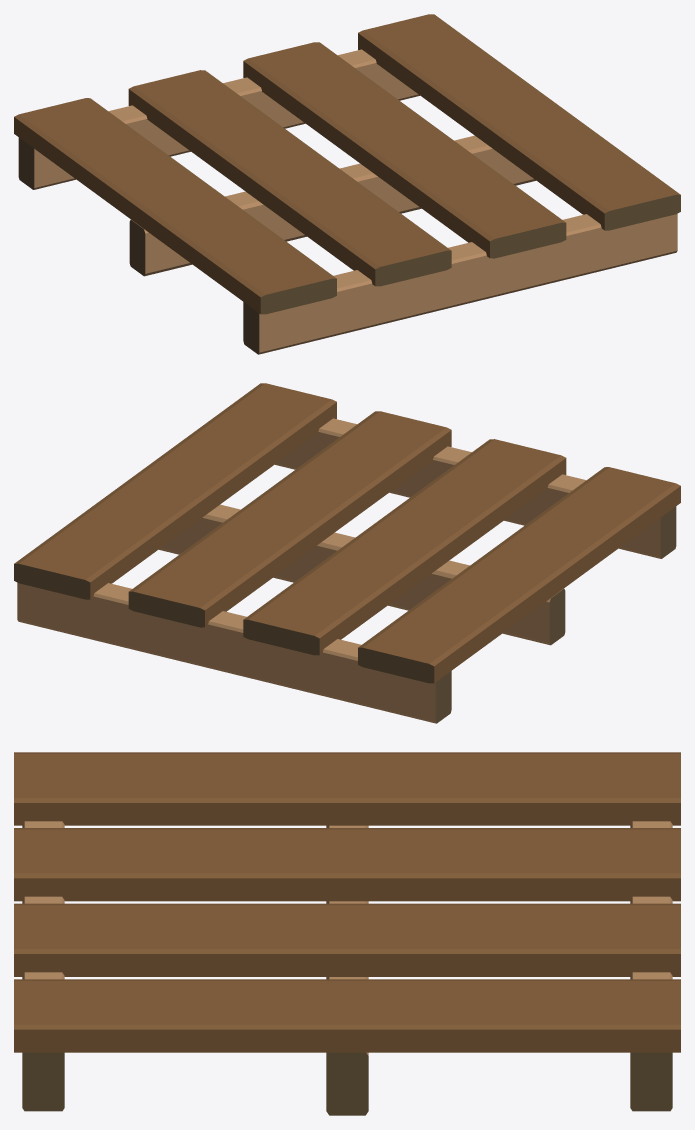
Rendered from Pallet_no_bottom.fbx.
The picture shows the model from 3 angles, top to bottom: view 1: azimuth 30°, elevation 25°; view 2: azimuth 150°, elevation 25°; view 3: azimuth 270°, elevation 25°; orthographic projection. The views are drawn at different scales.
Parts seen in each view (by area): view 1: Pallet.001; view 2: Pallet.001; view 3: Pallet.001.
Boxes of the visible parts, left/top/right/bottom form: Pallet.001: left=14, top=14, right=680, bottom=354; Pallet.001: left=14, top=383, right=680, bottom=723; Pallet.001: left=14, top=752, right=680, bottom=1115.
Bounding box in the file's own units: 324 × 47.58 × 319.
